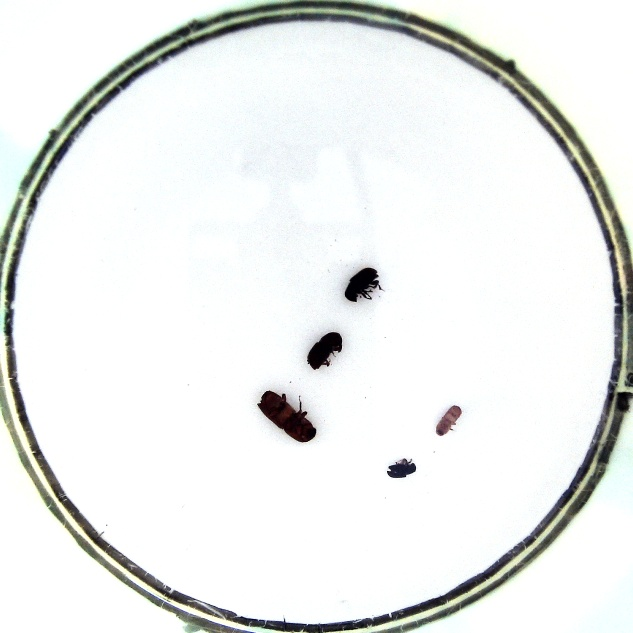acuminatus: (432, 404, 467, 437)
armandi: (342, 266, 387, 305)
boerner: (256, 390, 318, 443)
coleoptera: (388, 455, 417, 482)
linnaeus: (304, 330, 346, 369)
